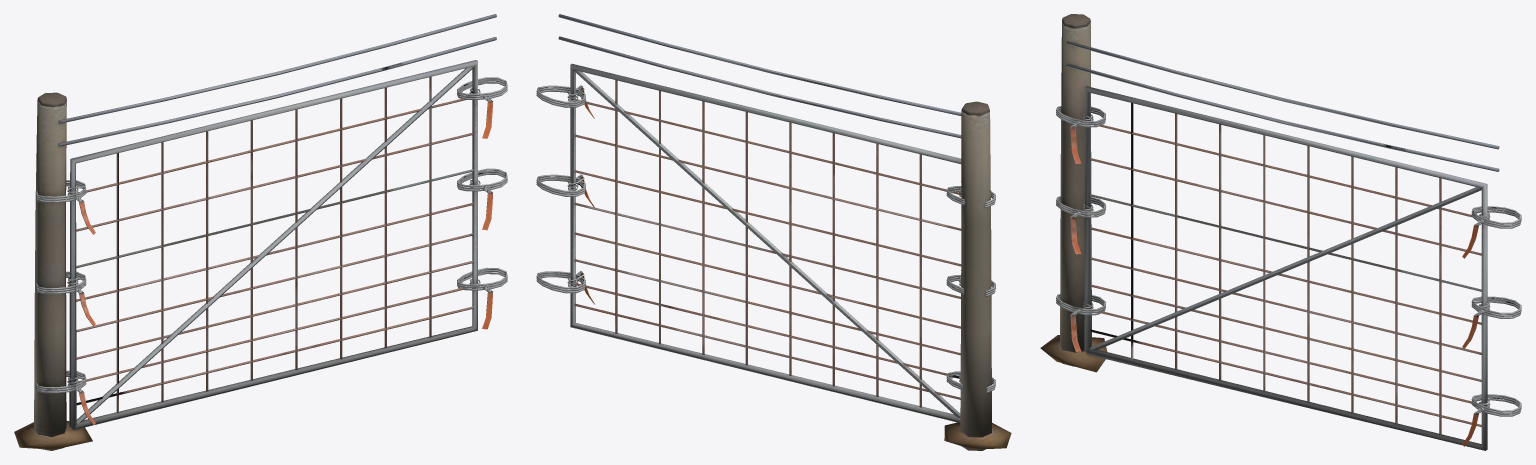
Rendered from pen_fence_cut.glb.
3 views of the same model, side by side, from view 1: azimuth 30°, elevation 25°; view 2: azimuth 150°, elevation 25°; view 3: azimuth 330°, elevation 25° (orthographic). The views are drawn at different scales.
Parts seen in each view (by area): view 1: pen_fence_cut; view 2: pen_fence_cut; view 3: pen_fence_cut.
Boxes of the visible parts, x1,y1,x2,y2 form: pen_fence_cut: (14, 14, 507, 450); pen_fence_cut: (536, 14, 1011, 450); pen_fence_cut: (1040, 14, 1521, 450).
Bounding box in the file's own units: 3.32 × 2.29 × 0.459.
Materials: 1 (1 with a texture image).
